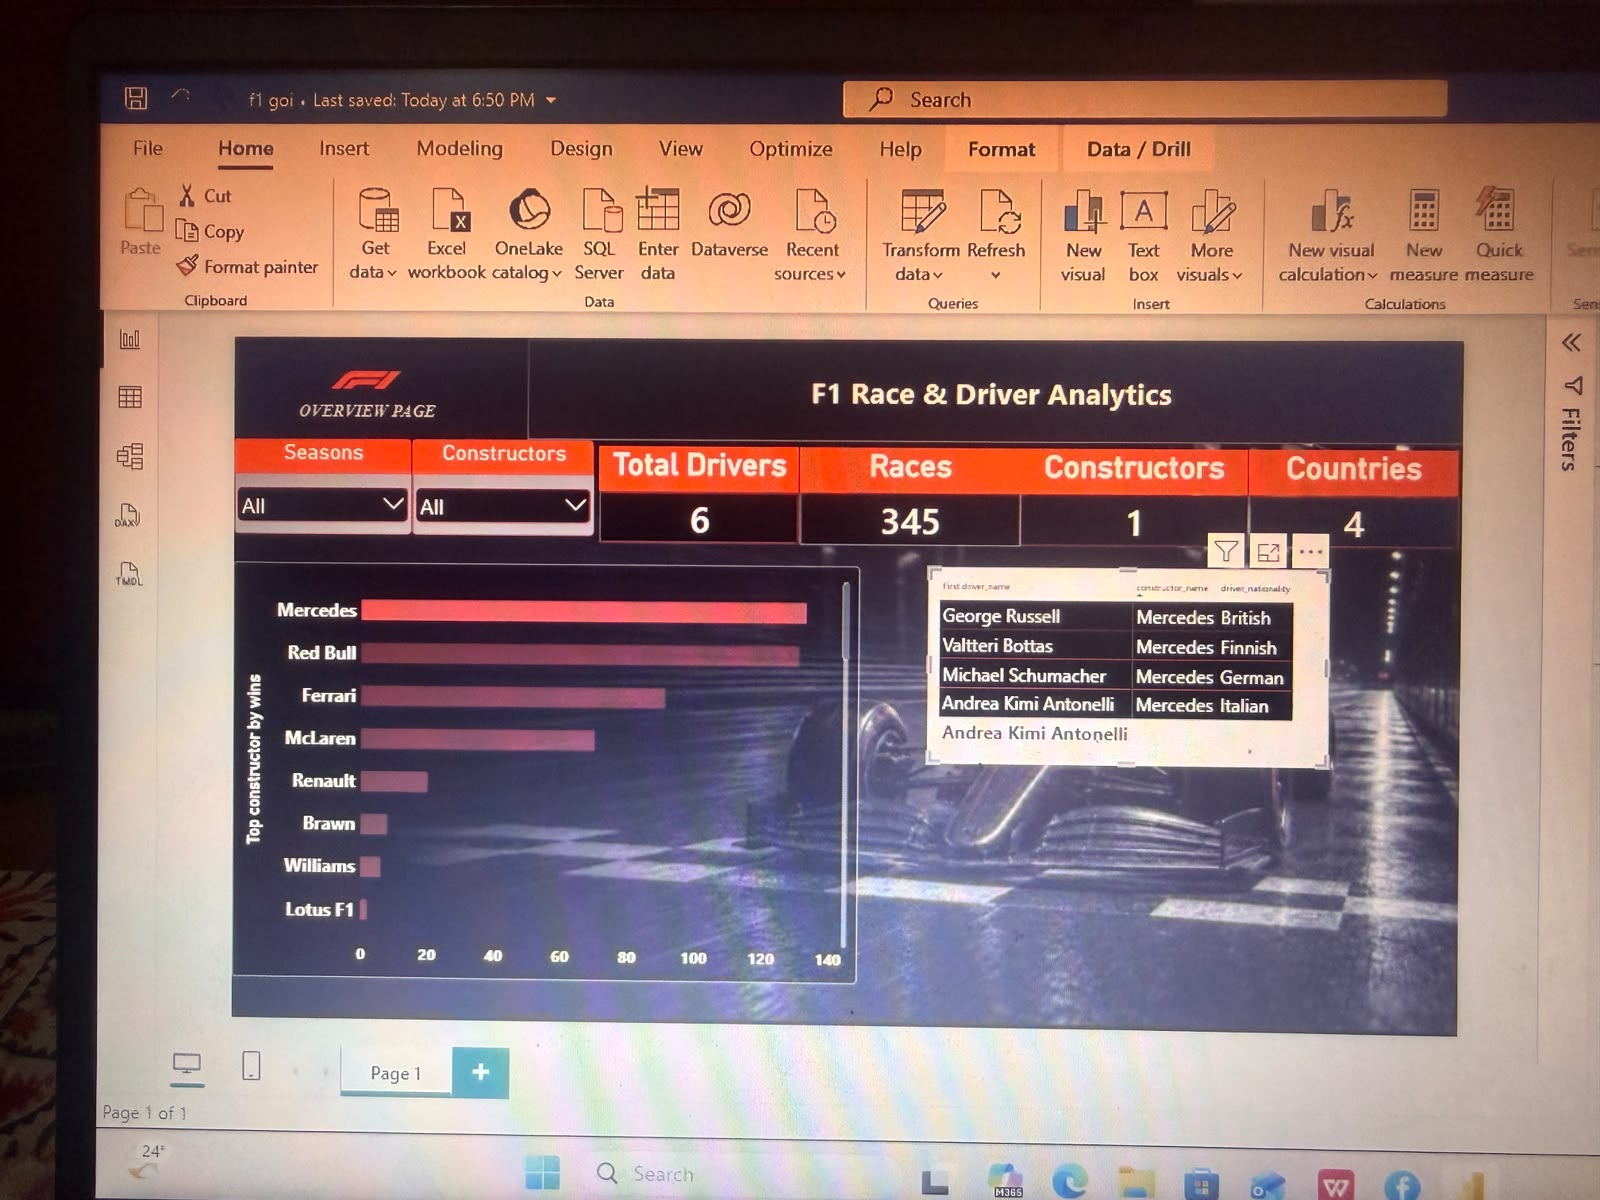

Layout of this report page (visuals, bound fields, positions):
{"tool":"powerbi","page":{"name":"Constructors","canvas":[1920,1080],"ordinal":2},"visuals":[{"type":"textbox","box":[0,10.8,1920.2,149],"z":0},{"type":"image","box":[25.9,0,369.4,164.2],"z":1000},{"type":"textbox","box":[58.3,101.5,306.7,62.6],"z":2000},{"type":"clusteredBarChart","title":"TOP CONSTRUCTORS BY WINS","fields":{"Category":["f1_main.constructor_name"],"Y":["f1_main.Total Wins"]},"box":[990,295,920,455],"z":3000},{"type":"slicer","title":"Seasons","fields":{"Values":["f1_main.season"]},"box":[0,159.8,252.7,144.7],"z":4000},{"type":"slicer","title":"Constructors","fields":{"Values":["f1_main.constructor_name"]},"box":[252.7,159.8,241.9,144.7],"z":5000},{"type":"shape","box":[394.7,21.1,1526.3,126.3],"z":7000},{"type":"textbox","box":[428.9,36.8,802.5,122.5],"z":8000},{"type":"cardVisual","title":"Races","fields":{"Data":["Count(f1_main.race_date)"]},"box":[1110,162.5,245,125],"z":9000},{"type":"cardVisual","title":"Total Drivers","fields":{"Data":["Count(f1_main.driver_name)"]},"box":[830,165,277.5,122.5],"z":10000},{"type":"cardVisual","title":" Constructors","fields":{"Data":["Count(f1_main.constructor_name)"]},"box":[1356,162,310,126],"z":11000},{"type":"cardVisual","title":"Wins","fields":{"Data":["Sum(f1_main.is_win)"]},"box":[1665,160,245,127.5],"z":12000},{"type":"donutChart","title":"RACE STATUS","fields":{"Y":["f1_main.Accident Rate","f1_main.Finish Rate","f1_main.Mechanical Failure Rate","f1_main.Retired Other Rate"]},"box":[990,757.5,920,312.5],"z":13000},{"type":"tableEx","title":"CONSTRUCTORS PERFORMANCE TABLE","fields":{"Values":["f1_main.constructor_name","f1_main.Total Points","f1_main.Average Pit Stop Time (sec)","Sum(f1_main.pit_stop_count)","Sum(f1_main.is_podium)","Sum(f1_main.is_dnf)"]},"box":[12.5,315,947.5,365],"z":14000},{"type":"lineChart","title":"CONSTRUCTION PERFORMANCE BY SEASON","fields":{"Category":["f1_main.season"],"Series":["f1_main.constructor_name"],"Y":["f1_main.Total Points"]},"box":[12.5,687.5,957.5,387.5],"z":15000},{"type":"pageNavigator","title":"VIEWING..","box":[1233.3,23.3,626.7,110],"z":15001},{"type":"slicer","title":"Circuit Country","fields":{"Values":["f1_main.circuit_country"]},"box":[494.6,160.7,241.9,144.7],"z":15002}]}

Visuals, with their boxes on the page's 1920x1080 design canvas (x1, y1, x2, y2). These are canvas units, not pixel positions in the 1600x1200 screenshot, which may show the page scaled, cropped or inside an application window:
textbox: (0, 11, 1920, 160)
image: (26, 0, 395, 164)
textbox: (58, 102, 365, 164)
"TOP CONSTRUCTORS BY WINS" clusteredBarChart: (990, 295, 1910, 750)
"Seasons" slicer: (0, 160, 253, 304)
"Constructors" slicer: (253, 160, 495, 304)
shape: (395, 21, 1921, 147)
textbox: (429, 37, 1231, 159)
"Races" cardVisual: (1110, 162, 1355, 288)
"Total Drivers" cardVisual: (830, 165, 1108, 288)
" Constructors" cardVisual: (1356, 162, 1666, 288)
"Wins" cardVisual: (1665, 160, 1910, 288)
"RACE STATUS" donutChart: (990, 758, 1910, 1070)
"CONSTRUCTORS PERFORMANCE TABLE" tableEx: (12, 315, 960, 680)
"CONSTRUCTION PERFORMANCE BY SEASON" lineChart: (12, 688, 970, 1075)
"VIEWING.." pageNavigator: (1233, 23, 1860, 133)
"Circuit Country" slicer: (495, 161, 736, 305)
